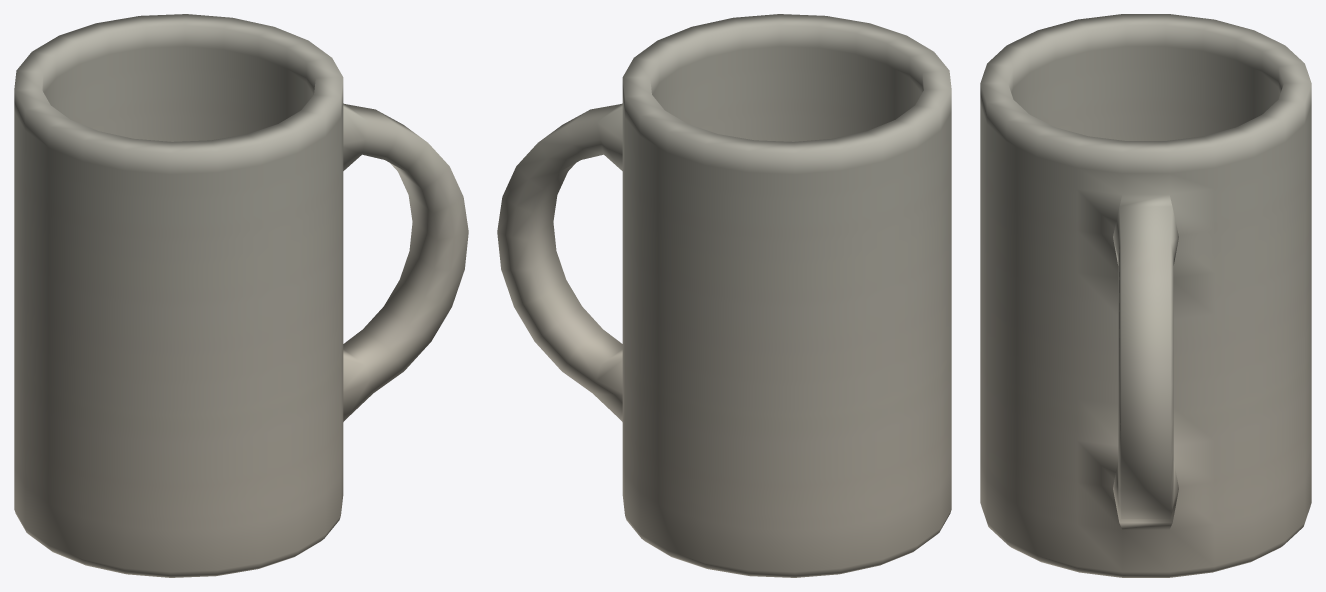
File: coffeemug.fbx
3 views of the same model, side by side, from view 1: azimuth 30°, elevation 25°; view 2: azimuth 150°, elevation 25°; view 3: azimuth 270°, elevation 25° (orthographic).
Parts seen in each view (by area): view 1: Coffeemug; view 2: Coffeemug; view 3: Coffeemug.
Boxes of the visible parts, x1,y1,x2,y2 form: Coffeemug: (14, 14, 468, 577); Coffeemug: (497, 14, 951, 577); Coffeemug: (980, 14, 1311, 577).
Size of the model in its own units: 12.31 by 12 by 8.4.
